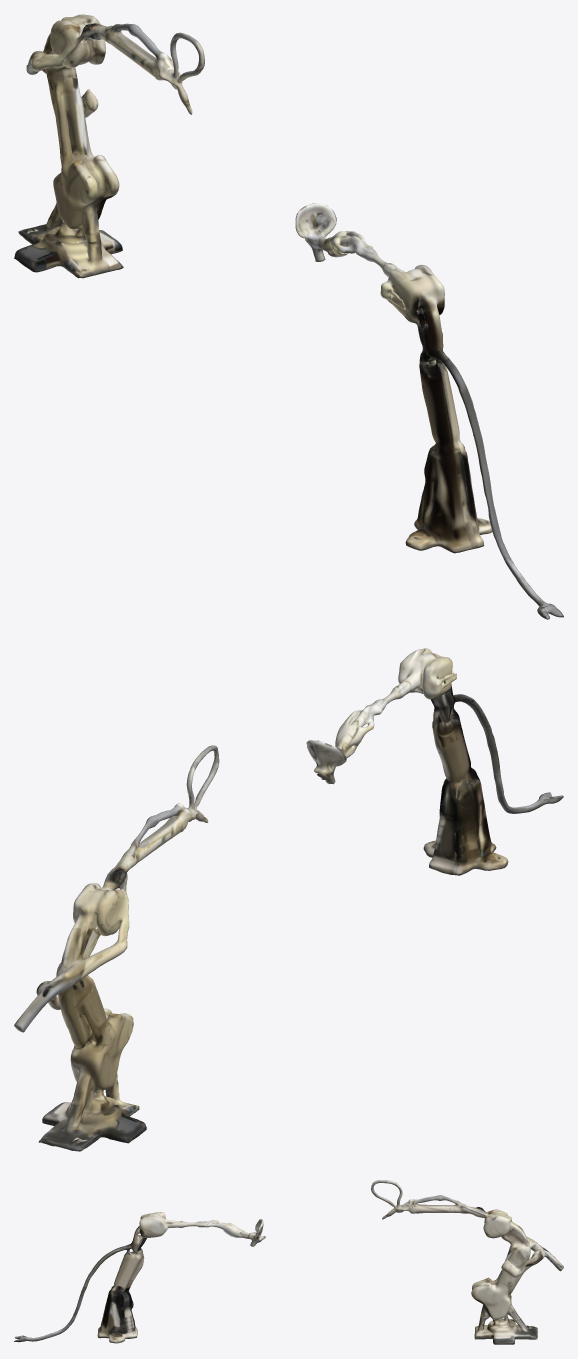
The model's file is modelspray.glb.
3 views of the same model, one above another, from view 1: azimuth 30°, elevation 25°; view 2: azimuth 150°, elevation 25°; view 3: azimuth 270°, elevation 25° (orthographic). The views are drawn at different scales.
Bounding box in the file's own units: 0.1928 × 0.6421 × 2.
Materials: 1 (1 with a texture image).
